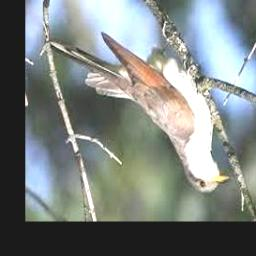Cuckoo: (85, 32, 230, 193)
